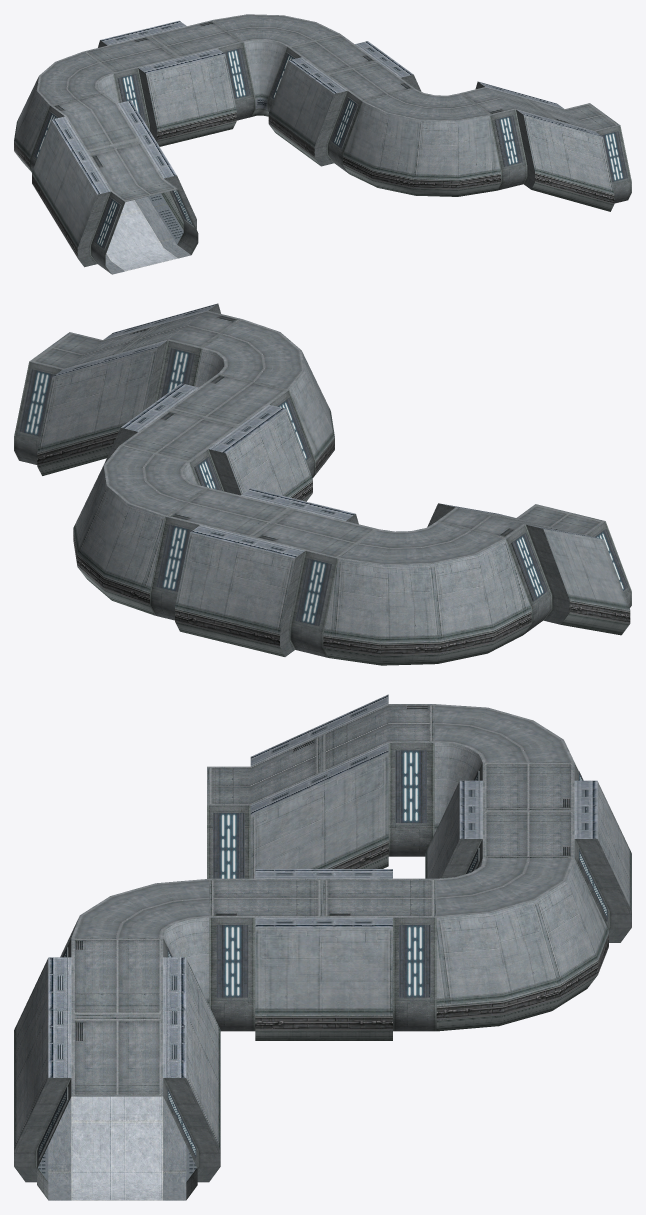
The model's file is thm_newbie_hall_r6_mesh_r6.fbx.
3 renders of one model, top to bottom at view 1: azimuth 30°, elevation 25°; view 2: azimuth 150°, elevation 25°; view 3: azimuth 270°, elevation 25°, orthographic. The views are drawn at different scales.
Parts seen in each view (by area): view 1: mesh_node; view 2: mesh_node; view 3: mesh_node.
Part boxes in pixels (x1,y1,x2,y2): mesh_node: (14,14,631,274); mesh_node: (14,303,631,665); mesh_node: (14,694,631,1200).
Bounding box in the file's own units: 36.49 × 8 × 26.9.
